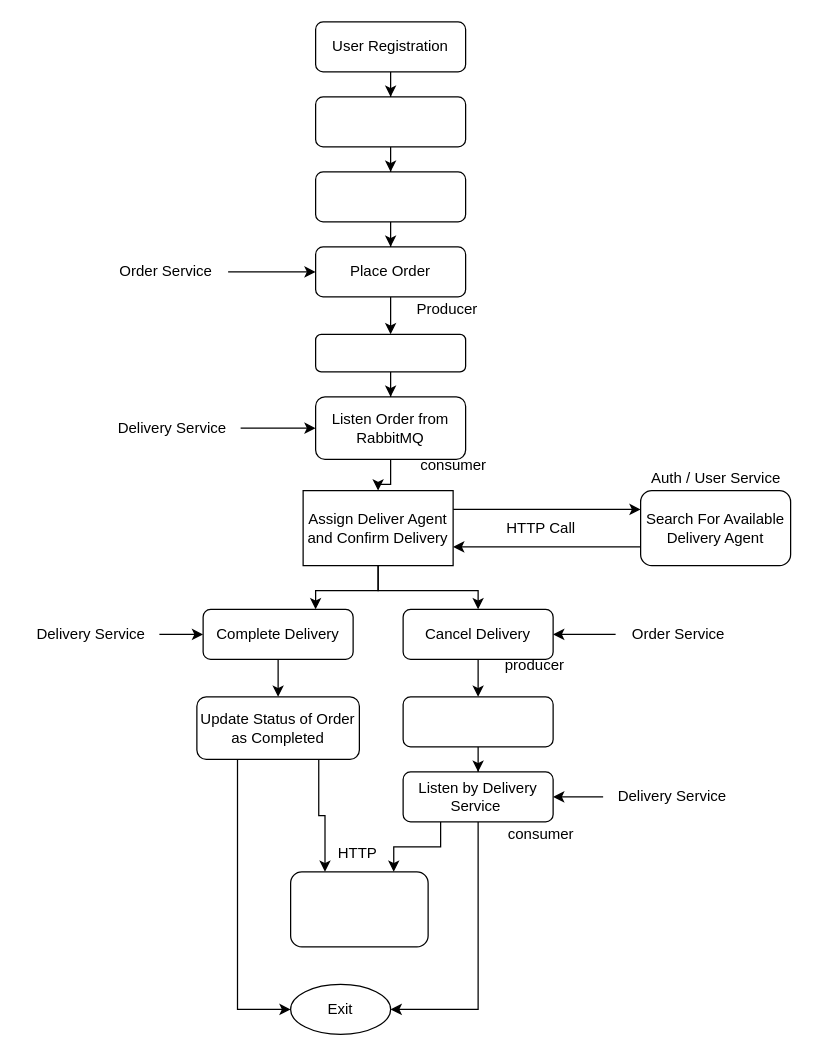
Some shapes in this 818 by 1056 pixel diagram are drawn without their labels. Here are the shapes that lost their labels. From the top down, the box of each, then its label:
(314, 96, 466, 147): User Login
(314, 171, 466, 222): Search Menus
(314, 333, 466, 372): RabbitMQ
(402, 696, 553, 747): Rabbit MQ
(289, 871, 428, 947): Mark the Delivery Partner as Available
